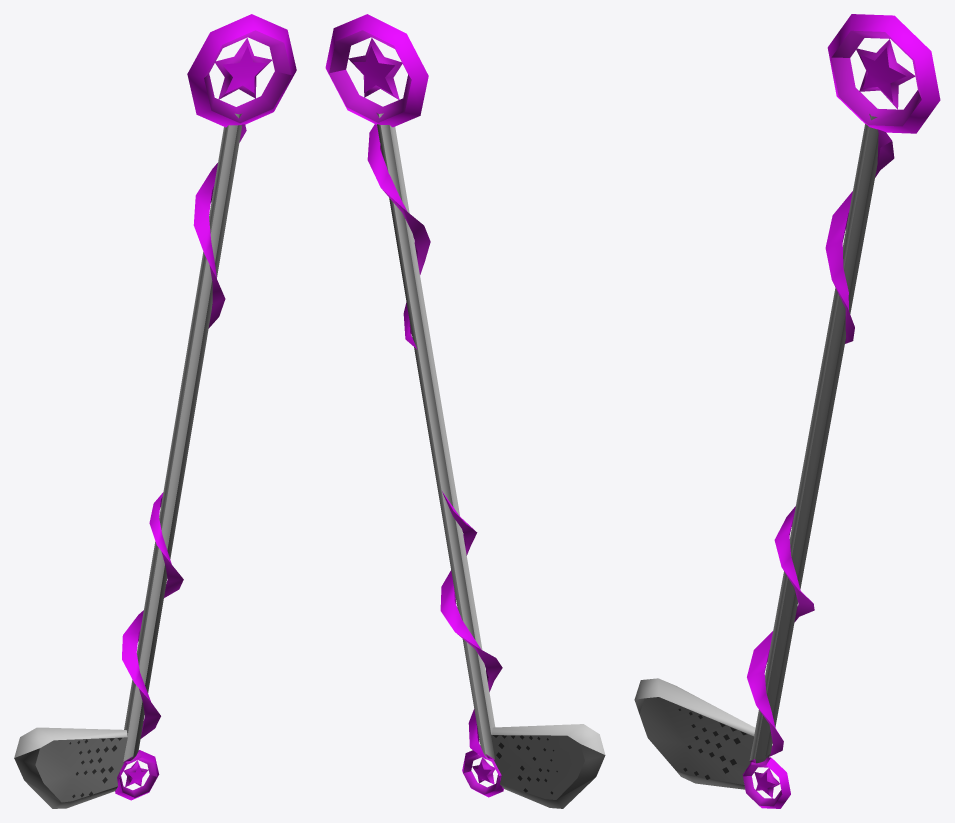
File: golfClub5.glb
The picture shows the model from 3 angles, left to right: view 1: azimuth 30°, elevation 25°; view 2: azimuth 150°, elevation 25°; view 3: azimuth 330°, elevation 25°; orthographic projection. The views are drawn at different scales.
Parts seen in each view (by area): view 1: rainbow_club; view 2: rainbow_club; view 3: rainbow_club.
Boxes of the visible parts, bbox=[...] form: rainbow_club: bbox=[14, 14, 296, 808]; rainbow_club: bbox=[325, 14, 605, 808]; rainbow_club: bbox=[634, 14, 940, 808].
Size of the model in its own units: 0.4639 by 1.19 by 0.0757.
Materials: 1 (1 with a texture image).
